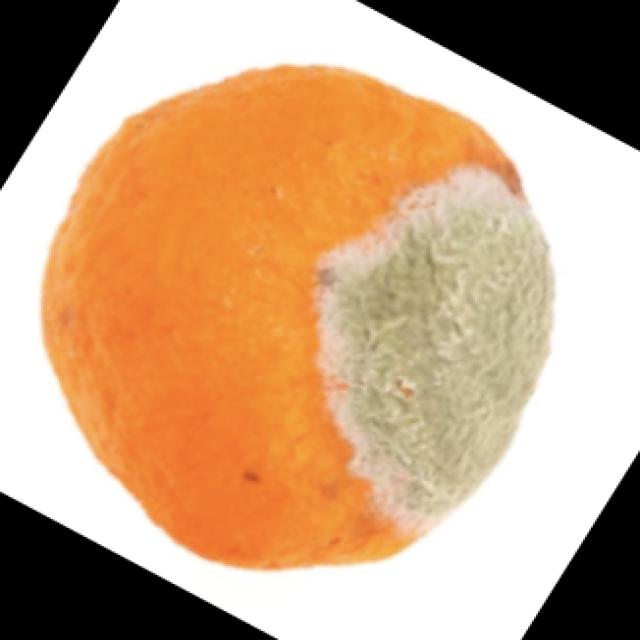sedikit_busuk: (32, 75, 552, 570)
